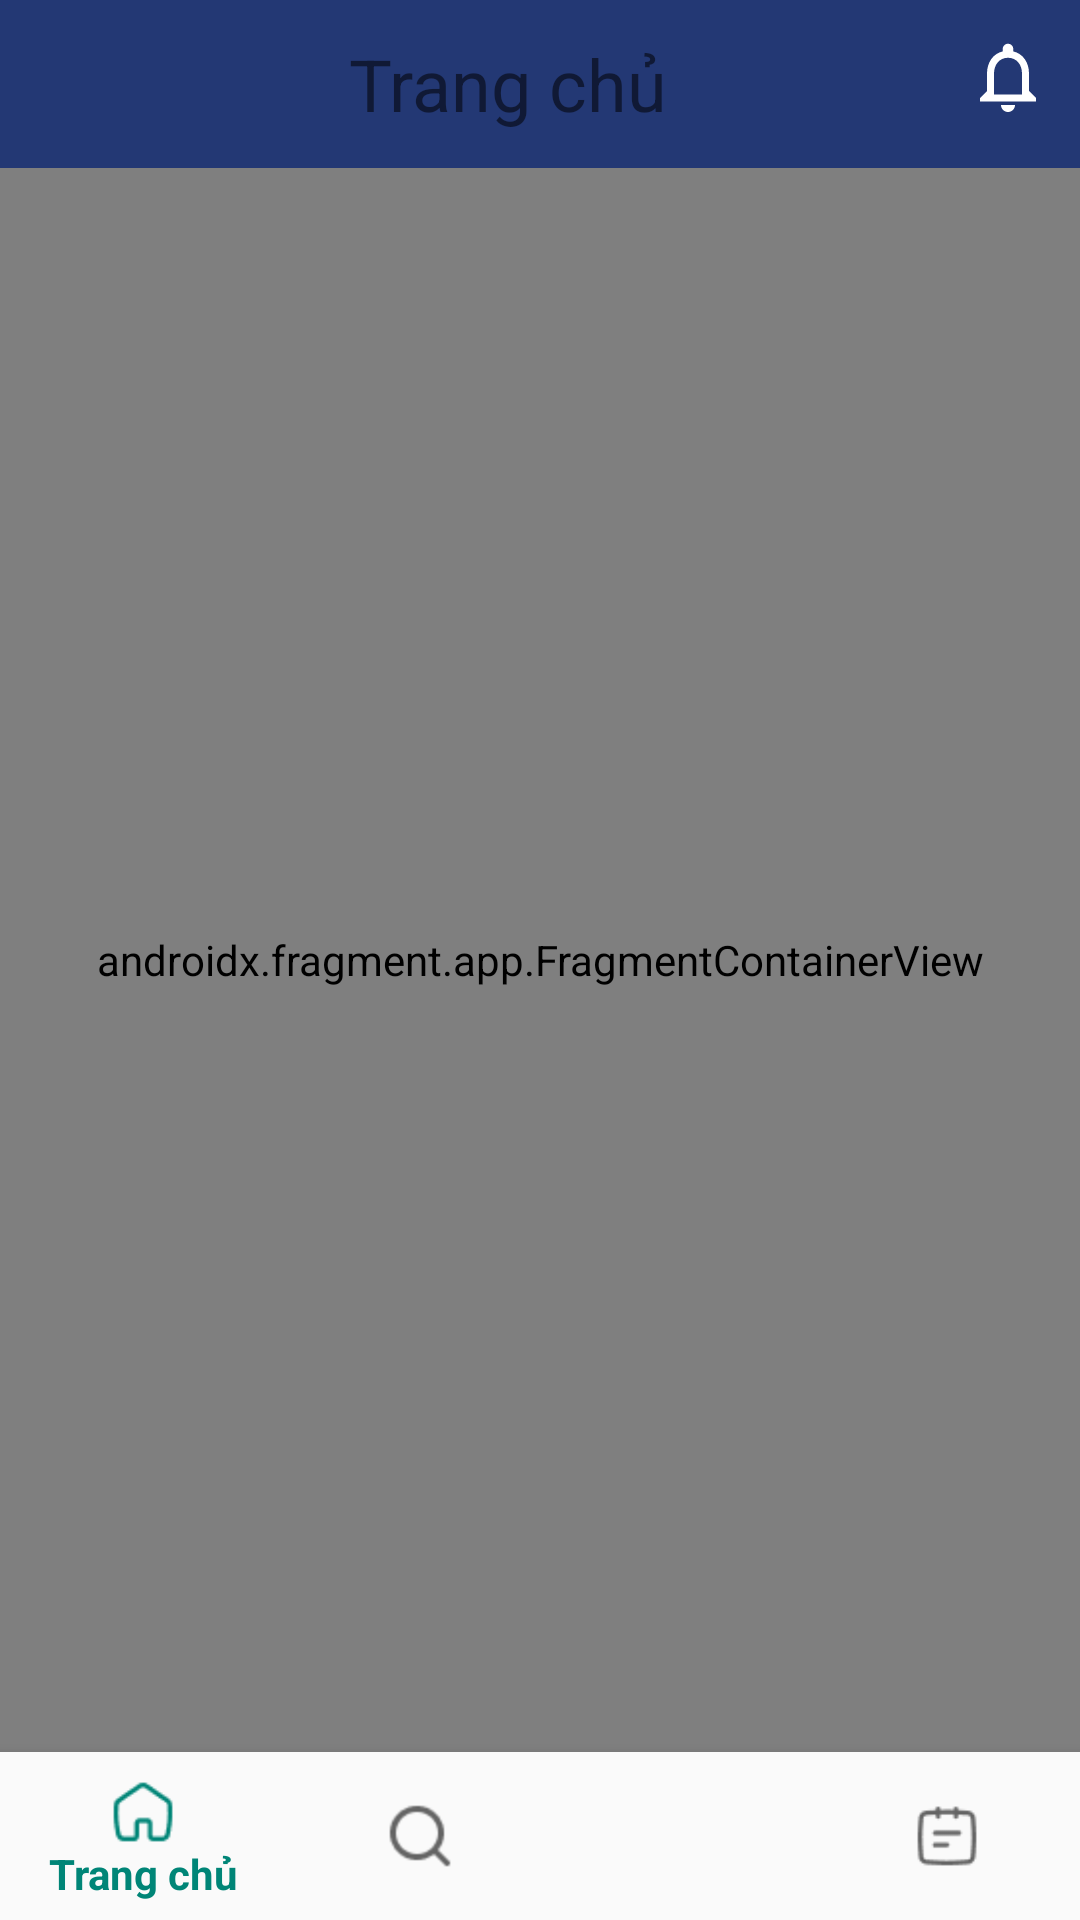

Screen size 1080px x 1920px. Icon name, then its center in pixels as [x,y]:
notification: [1008,77]
